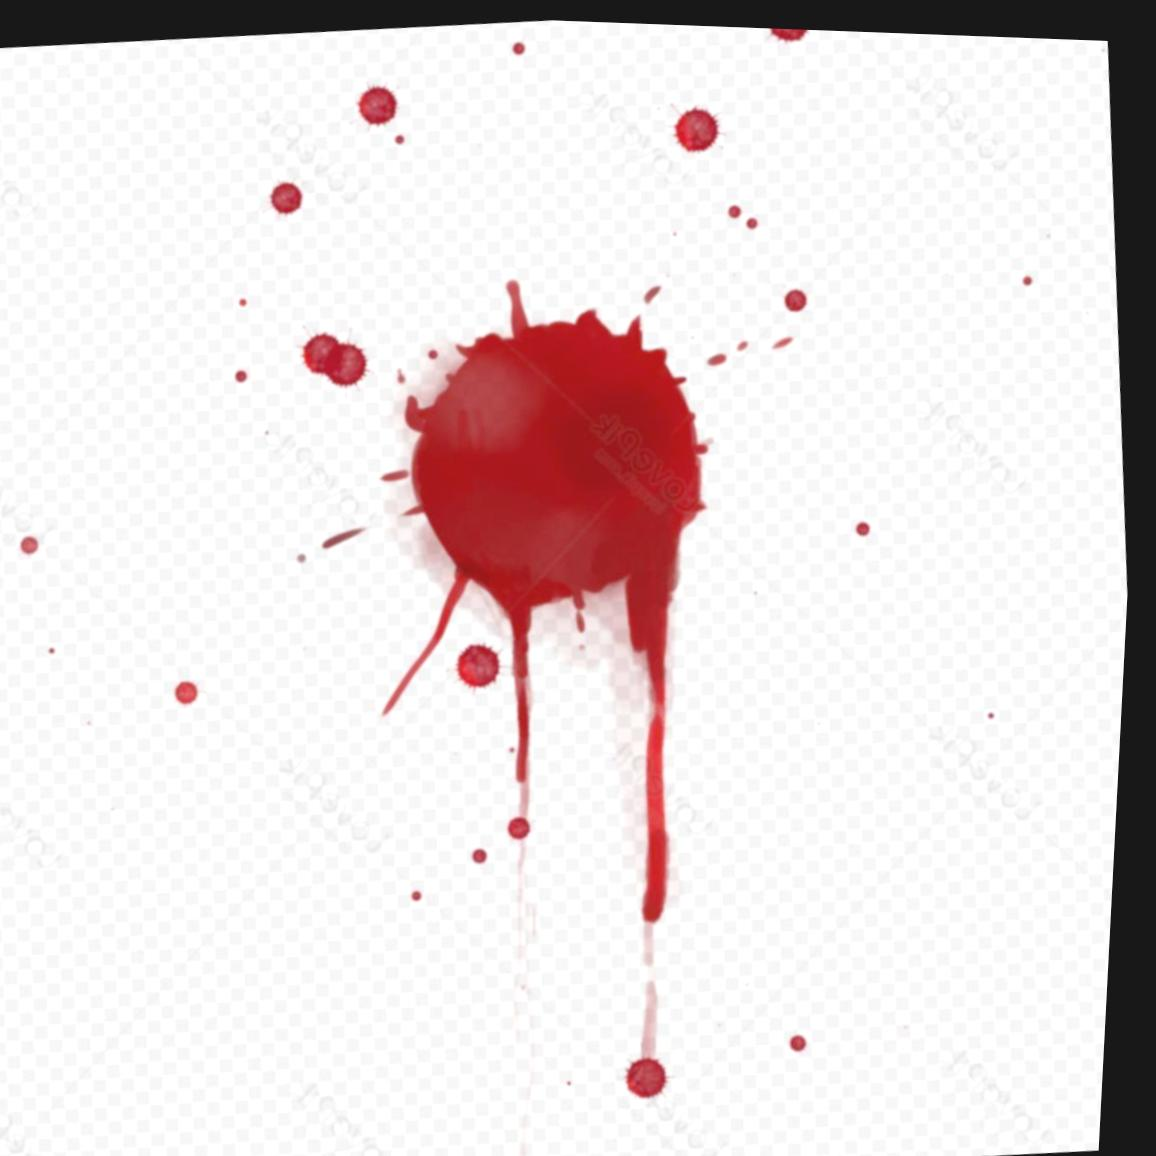Fire: (390, 274, 719, 918), (305, 328, 377, 384), (674, 101, 724, 148), (464, 638, 508, 684), (636, 1050, 682, 1092), (358, 80, 399, 123), (271, 178, 305, 212), (770, 22, 809, 36), (788, 283, 811, 305)
